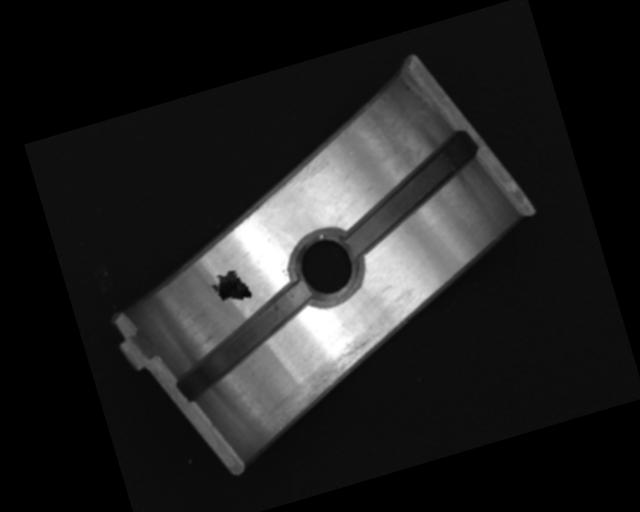blot: (206, 265, 253, 310)
gap: (326, 130, 494, 257), (160, 282, 329, 403)
hole: (282, 221, 372, 315)
scratch: (251, 327, 408, 434)
